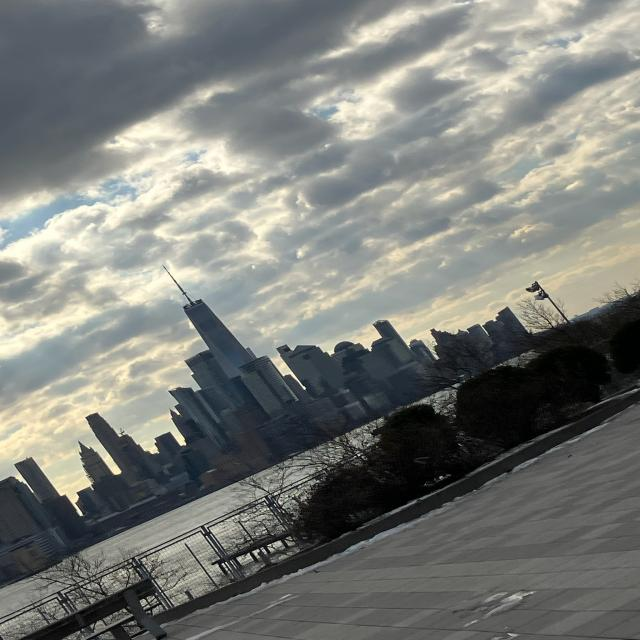WTC: (154, 264, 257, 373)
